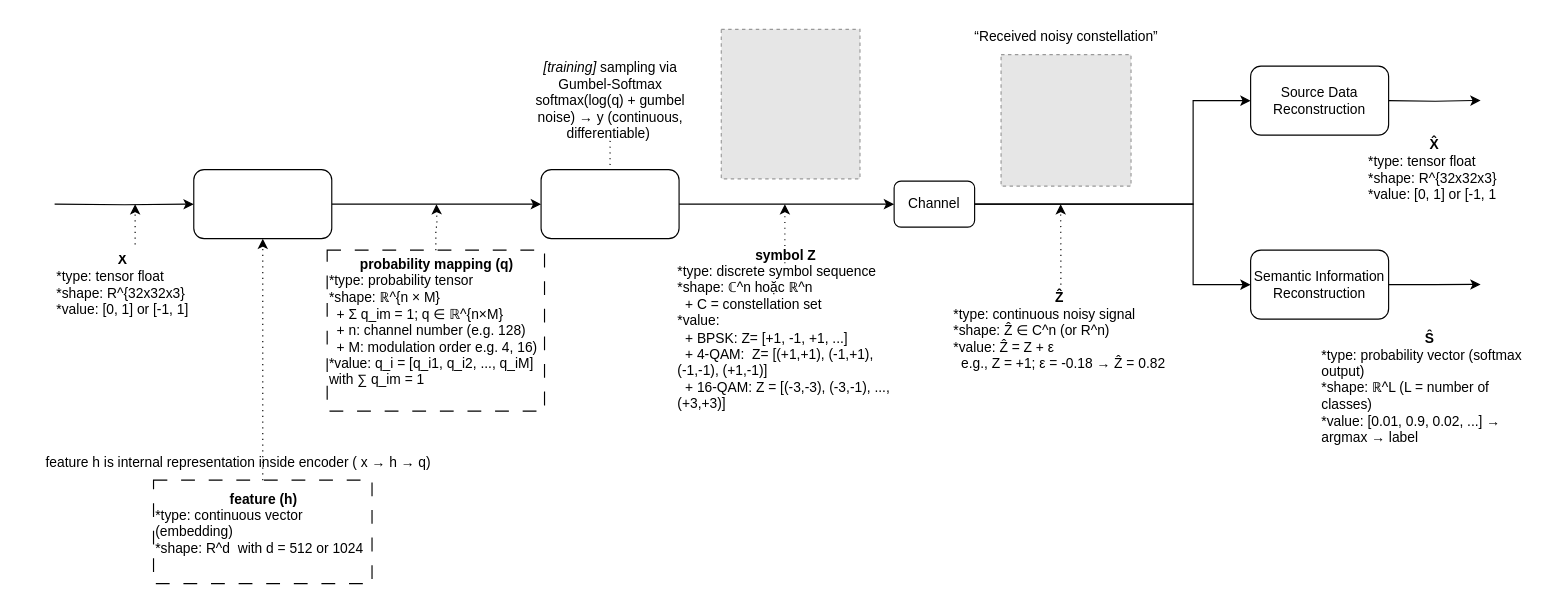
Some shapes in this 1557 by 604 pixel diagram are drawn without their labels. Grey dashed boxes stand in for pictures. The box of each missing label's shape, as (x1, y1, x2, y2) in pixels:
Constellation Symbol Generator: (540, 168, 679, 239)
Probabilistic Encoder-Modulator: (193, 168, 332, 239)
